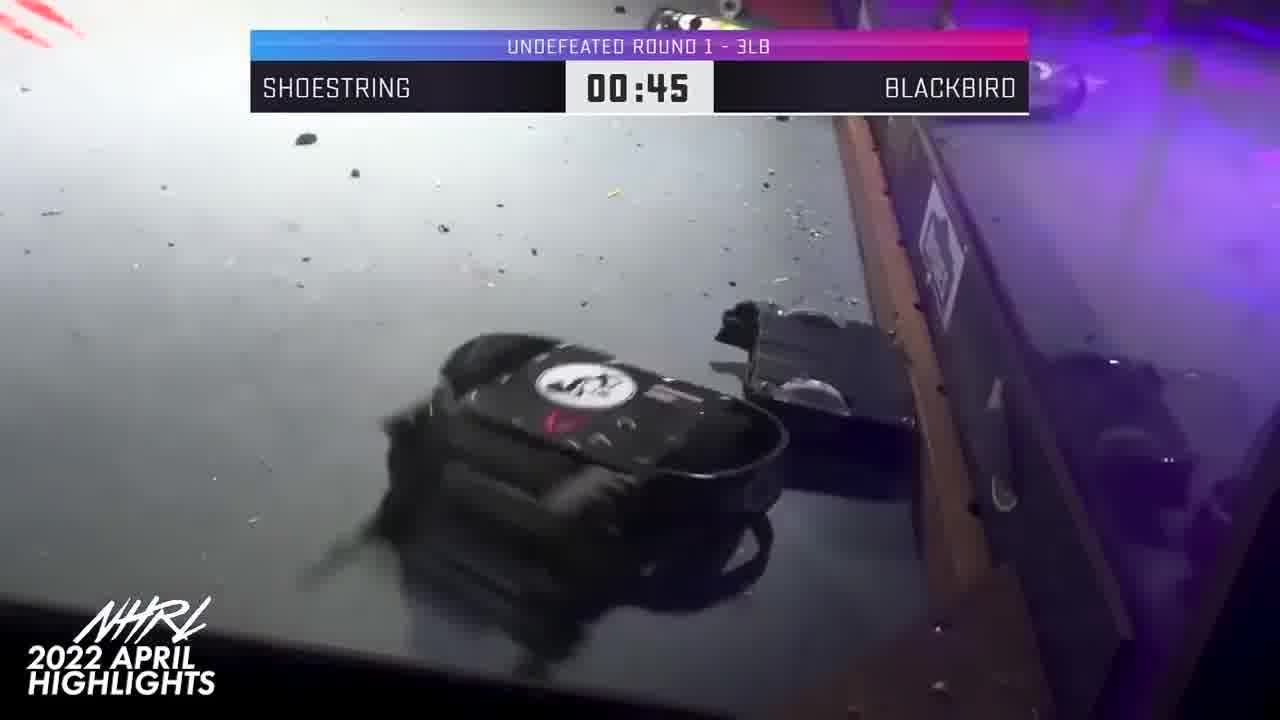combatbot: (379, 331, 788, 593), (708, 301, 923, 464)
